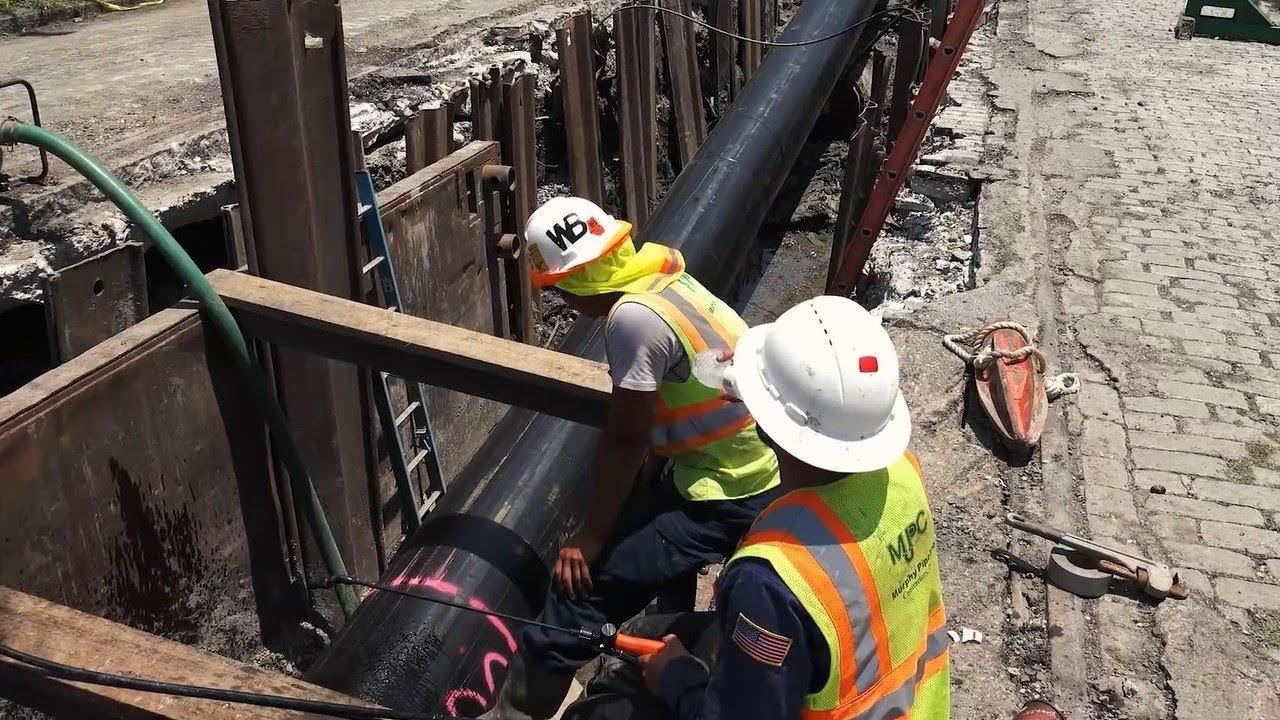helmet: (733, 294, 918, 474), (525, 202, 620, 272)
